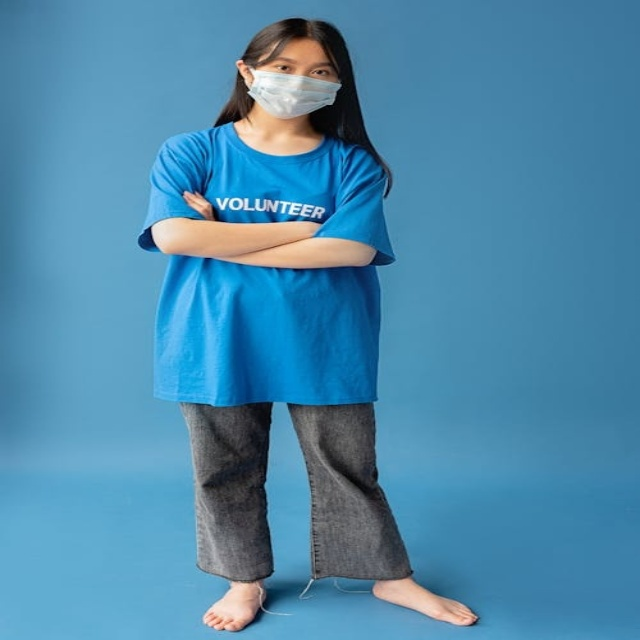Mascara: (245, 68, 342, 118)
Sin_gafas: (268, 52, 334, 79)
